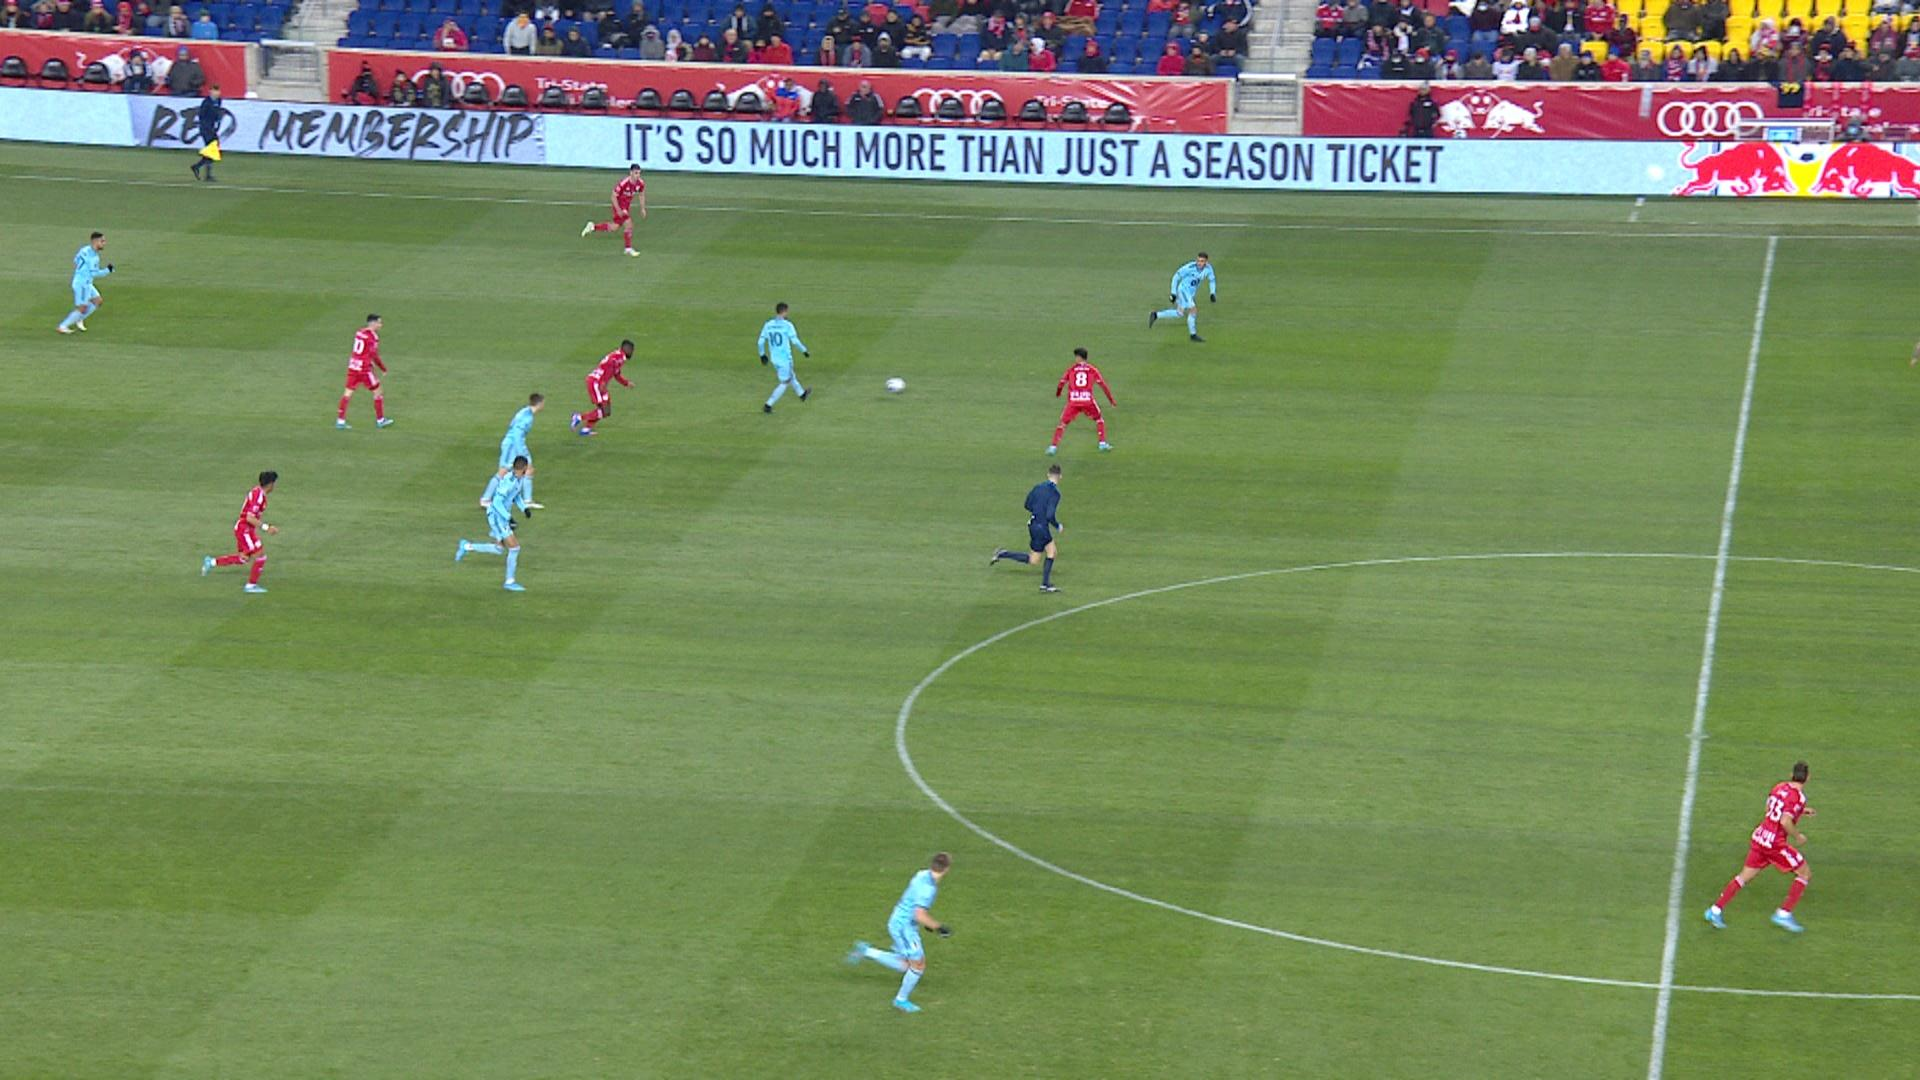football: (886, 376, 906, 394)
